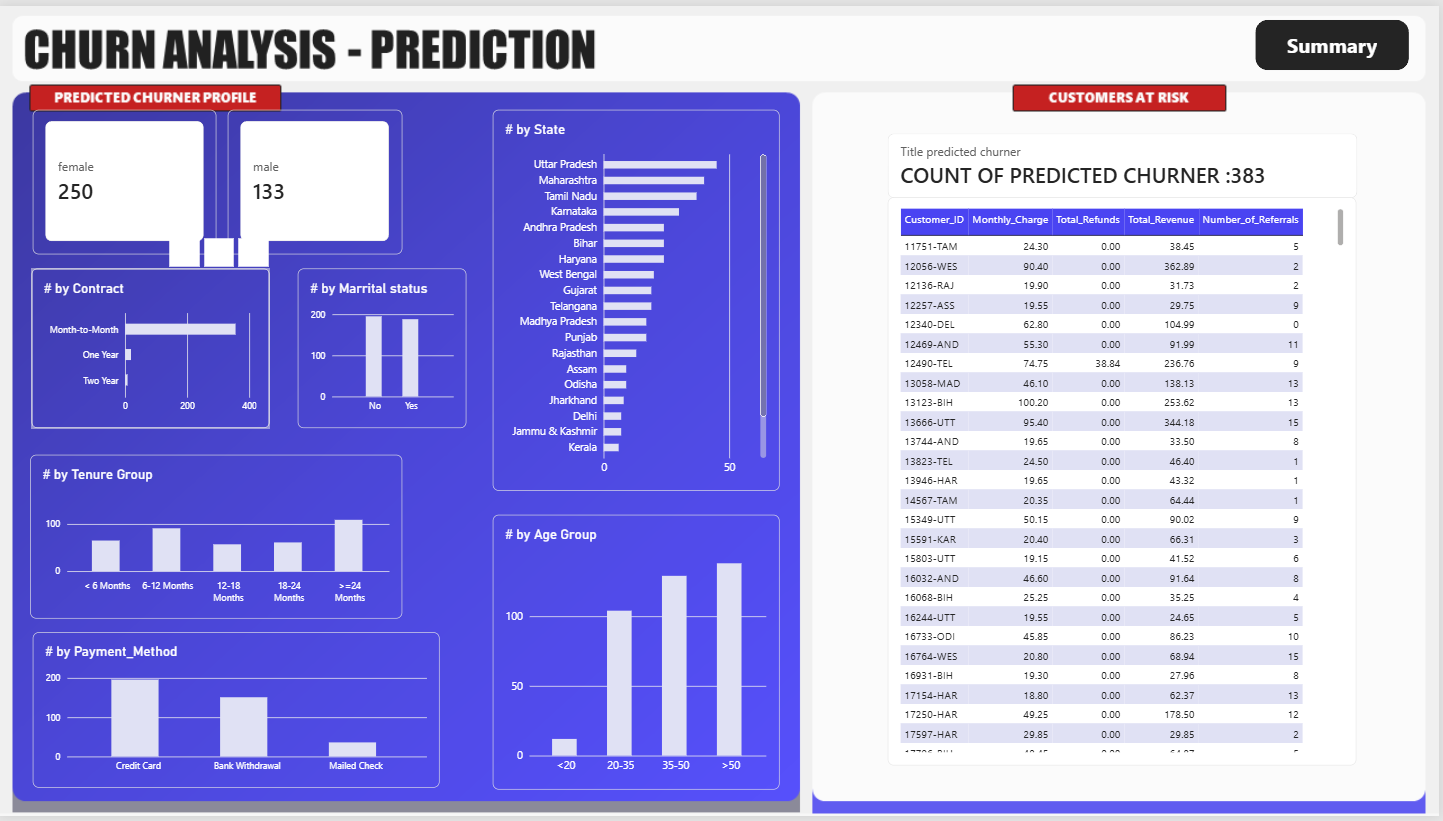

This screenshot's page, from the dashboard's own definition file:
{"tool":"powerbi","page":{"name":"Churn Prediction","canvas":[1920,1080],"ordinal":2},"visuals":[{"type":"tableEx","fields":{"Values":["Predictions.Customer_ID","Predictions.Monthly_Charge","Predictions.Total_Refunds","Predictions.Total_Revenue","Predictions.Number_of_Referrals"]},"box":[1185,255,625,757.5],"z":0},{"type":"cardVisual","fields":{"Data":["Predictions.Title predicted churner"]},"box":[1185,170,626,86],"z":1000},{"type":"cardVisual","fields":{"Data":["Predictions.Count predicted churner"]},"box":[45,137.5,245,192.5],"z":2000},{"type":"cardVisual","fields":{"Data":["Predictions.Count predicted churner"]},"box":[305,137.5,232.5,192.5],"z":3000},{"type":"clusteredColumnChart","fields":{"Category":["Mapping_AgeGrp.Age Group"],"Y":["CountNonNull(Predictions.Customer_ID)"]},"box":[658,678,382,366],"z":4000},{"type":"clusteredColumnChart","fields":{"Category":["Predictions.Married"],"Y":["CountNonNull(Predictions.Customer_ID)"]},"box":[397.5,350,225,212.5],"z":5000},{"type":"clusteredColumnChart","fields":{"Category":["Mapping_TenureGrp.Tenure Group"],"Y":["CountNonNull(Predictions.Customer_ID)"]},"box":[42,598,496,218],"z":6000},{"type":"clusteredColumnChart","fields":{"Category":["Predictions.Payment_Method"],"Y":["CountNonNull(Predictions.Customer_ID)"]},"box":[45,835,542.5,207.5],"z":7000},{"type":"clusteredBarChart","title":"# by Contract","fields":{"Category":["Predictions.Contract"],"Y":["CountNonNull(Predictions.Customer_ID)"]},"box":[42.5,350,317.5,212.5],"z":8000},{"type":"clusteredBarChart","fields":{"Category":["Predictions.State"],"Y":["CountNonNull(Predictions.Customer_ID)"]},"box":[657.5,137.5,382,508],"z":9000},{"type":"shape","box":[1675,17.5,205,67.5],"z":9001}]}

Visuals, with their boxes in screenshot pixels (x1, y1, x2, y2), scaled from the page's 1920x1080 canvas onto the 1443x821 screenshot:
tableEx - Predictions.Customer_ID x Predictions.Monthly_Charge: l=891, t=194, r=1360, b=770
cardVisual - Predictions.Title predicted churner: l=891, t=129, r=1361, b=195
cardVisual - Predictions.Count predicted churner: l=34, t=105, r=218, b=251
cardVisual - Predictions.Count predicted churner: l=229, t=105, r=404, b=251
clusteredColumnChart - Mapping_AgeGrp.Age Group x CountNonNull(Predictions.Customer_ID): l=495, t=515, r=782, b=794
clusteredColumnChart - Predictions.Married x CountNonNull(Predictions.Customer_ID): l=299, t=266, r=468, b=428
clusteredColumnChart - Mapping_TenureGrp.Tenure Group x CountNonNull(Predictions.Customer_ID): l=32, t=455, r=404, b=620
clusteredColumnChart - Predictions.Payment_Method x CountNonNull(Predictions.Customer_ID): l=34, t=635, r=442, b=792
"# by Contract" clusteredBarChart: l=32, t=266, r=271, b=428
clusteredBarChart - Predictions.State x CountNonNull(Predictions.Customer_ID): l=494, t=105, r=781, b=491
shape: l=1259, t=13, r=1413, b=65
